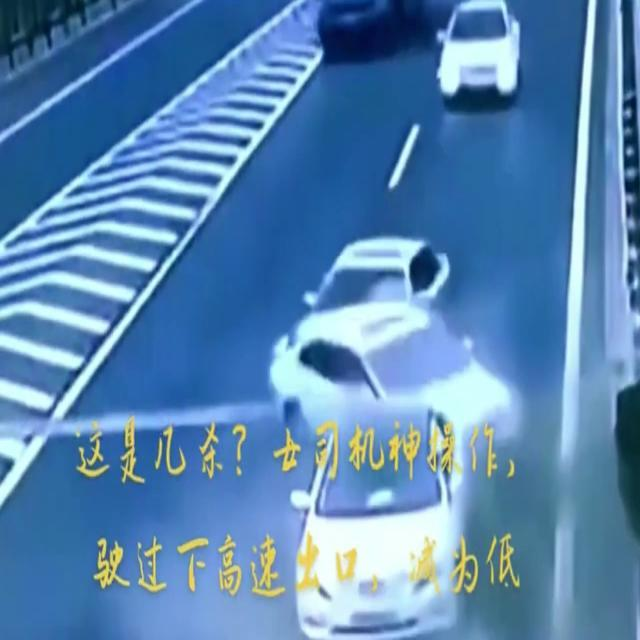multiple_accident: (222, 225, 578, 627)
